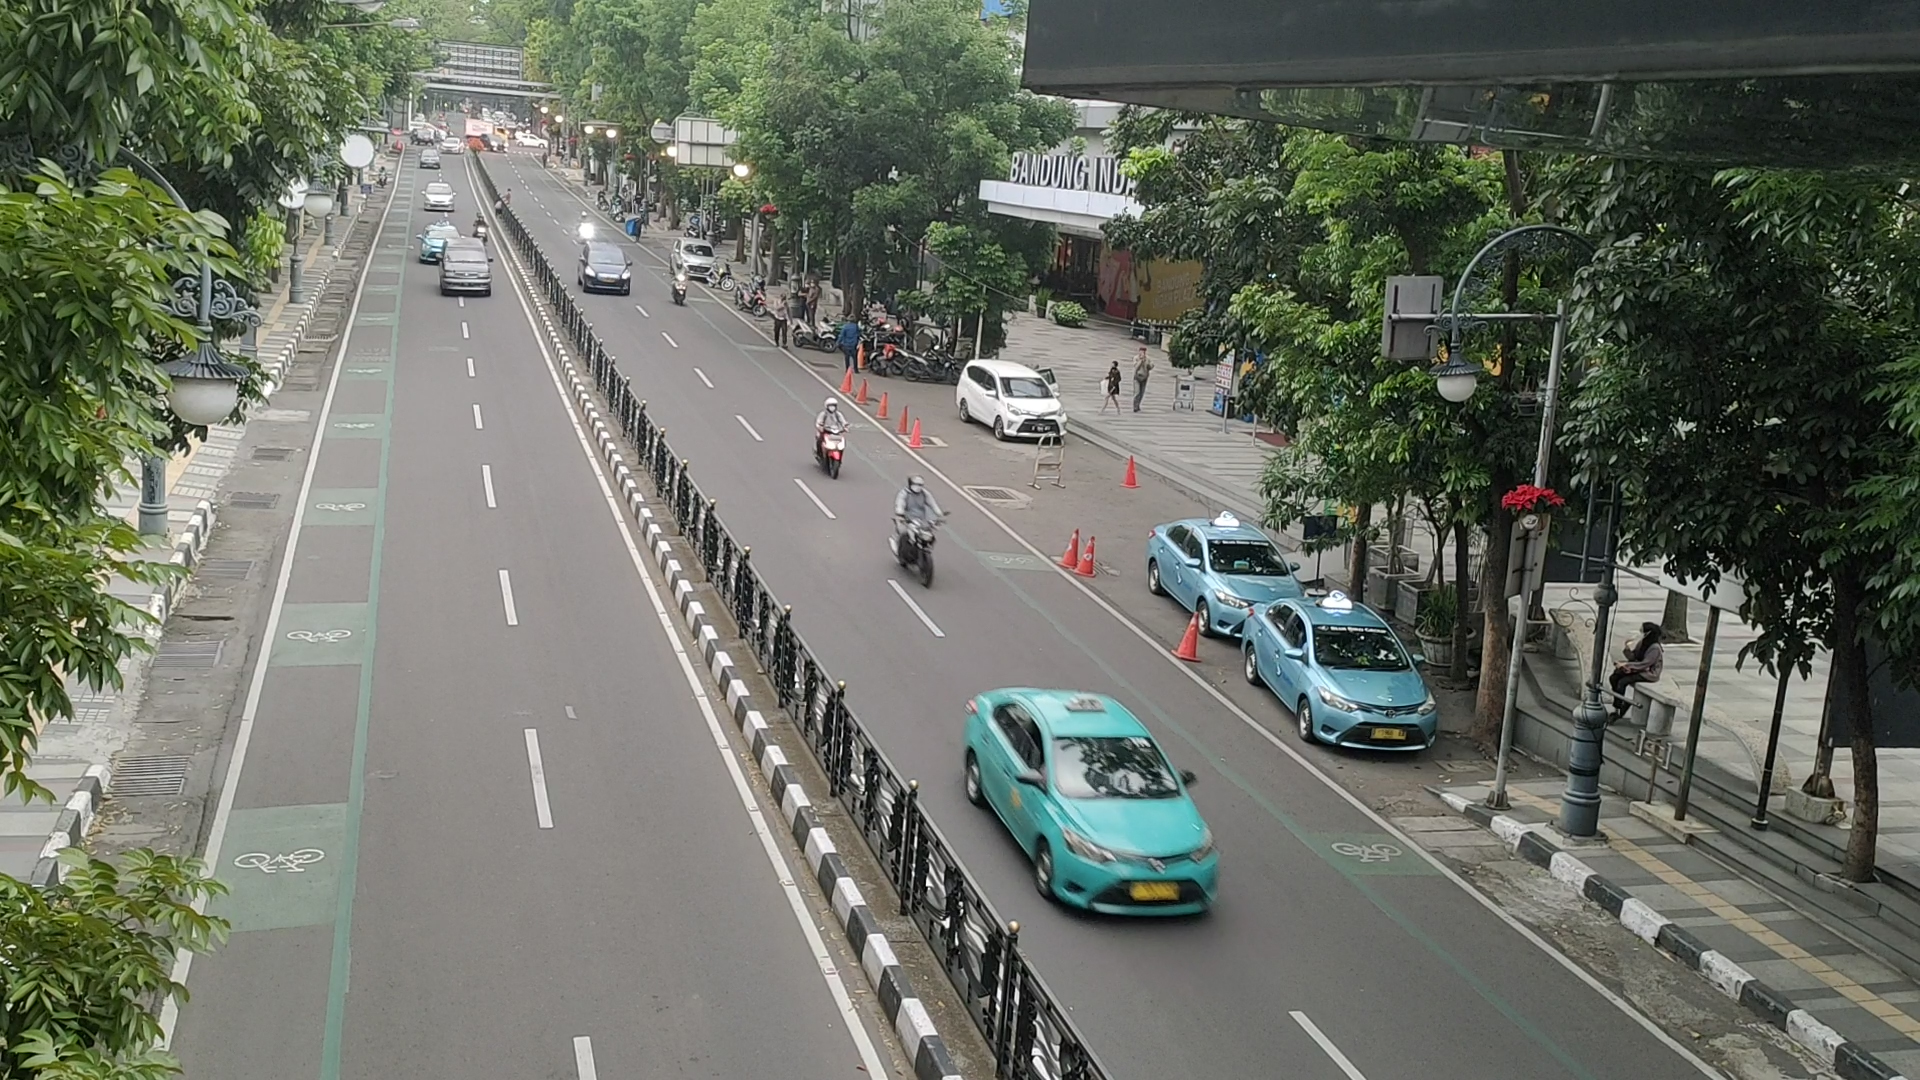mobil: (1021, 732, 1221, 926), (1292, 622, 1437, 760), (992, 375, 1068, 442)
motor: (886, 460, 953, 597), (804, 381, 855, 488)
